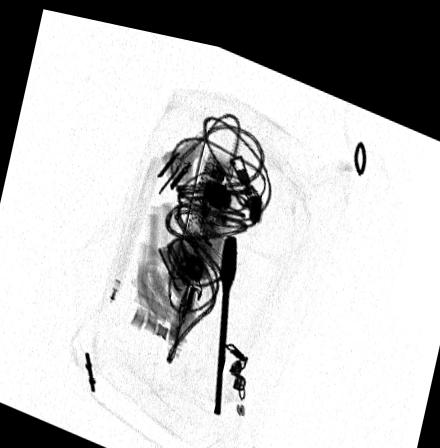Wrench: (213, 222, 238, 406)
